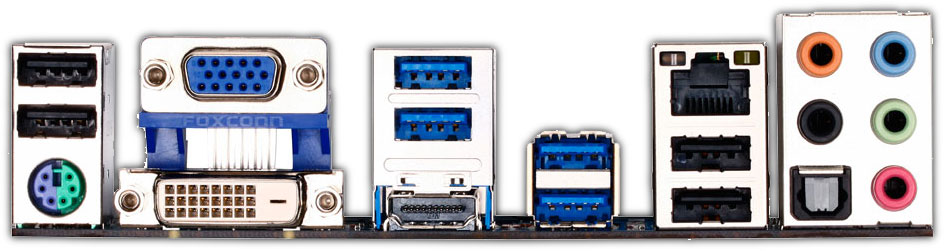Audio: (868, 28, 920, 79), (793, 29, 846, 78), (795, 97, 848, 146), (871, 162, 922, 212), (868, 98, 917, 145)
DVI: (148, 172, 306, 228)
Ethernet: (659, 47, 766, 119)
USB: (13, 94, 100, 144), (387, 102, 476, 146), (13, 50, 100, 95), (667, 131, 753, 175), (386, 53, 478, 94), (668, 184, 755, 222)
VGA: (174, 37, 289, 103)
